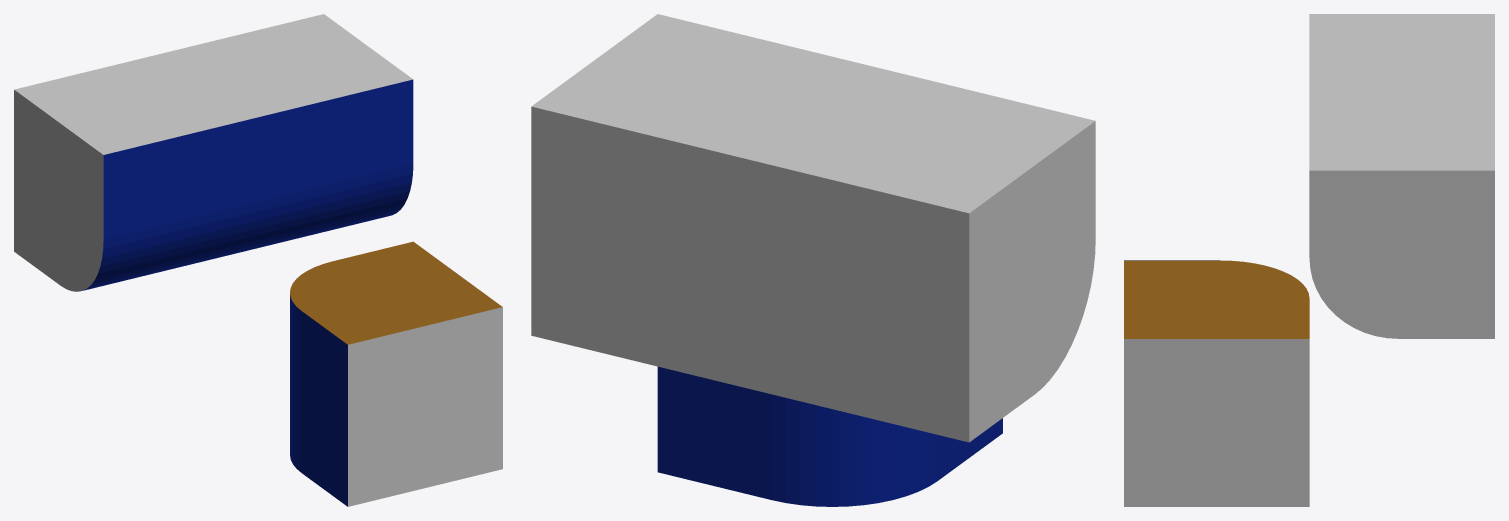
File: case_52.fbx
3 renders of one model, left to right at view 1: azimuth 30°, elevation 25°; view 2: azimuth 150°, elevation 25°; view 3: azimuth 270°, elevation 25°, orthographic. The views are drawn at different scales.
Parts seen in each view (by area): view 1: case_52; view 2: case_52; view 3: case_52.
Part boxes in pixels (box(x1,y1,x2,y2)): case_52: box(14, 14, 502, 506); case_52: box(531, 14, 1095, 506); case_52: box(1124, 14, 1494, 506).
Size of the model in its own units: 1 by 1 by 1.
